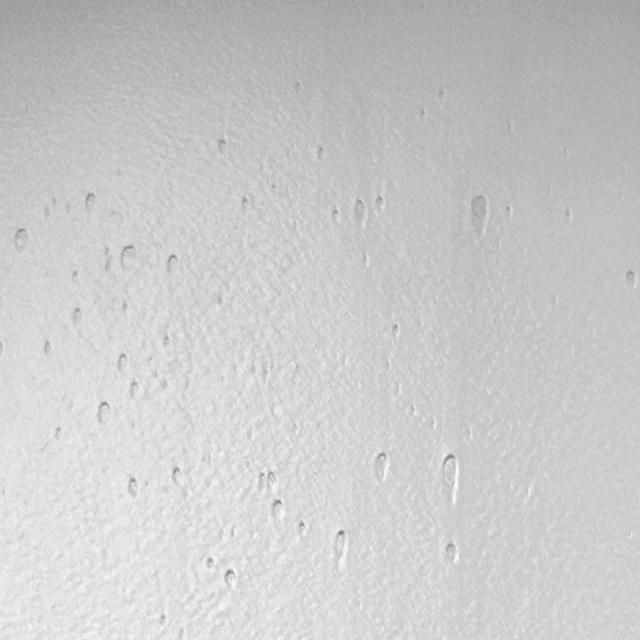pin holes: (436, 450, 464, 502), (466, 193, 491, 237), (330, 530, 351, 568), (9, 225, 32, 256), (116, 242, 140, 271), (371, 451, 392, 484), (94, 400, 115, 429), (353, 198, 373, 228), (122, 475, 144, 502), (255, 469, 278, 494), (268, 499, 288, 527), (442, 540, 462, 567), (220, 567, 240, 592), (169, 463, 188, 489), (115, 352, 133, 379), (82, 190, 100, 217), (164, 252, 183, 276), (44, 191, 58, 222), (327, 204, 344, 229), (623, 269, 640, 293), (126, 380, 144, 402), (214, 287, 231, 310), (159, 331, 175, 354), (41, 338, 58, 359), (312, 144, 328, 166), (101, 247, 116, 270), (70, 305, 84, 329), (216, 136, 232, 156), (297, 518, 310, 540), (238, 195, 253, 213), (374, 193, 388, 212), (202, 555, 216, 574), (0, 339, 10, 365), (52, 426, 66, 443), (268, 182, 282, 199), (564, 208, 577, 226), (69, 269, 82, 286), (392, 323, 404, 341), (436, 88, 448, 106), (121, 300, 133, 316), (293, 80, 305, 96), (408, 403, 420, 419), (418, 108, 429, 125), (506, 202, 516, 219), (64, 201, 74, 217)
